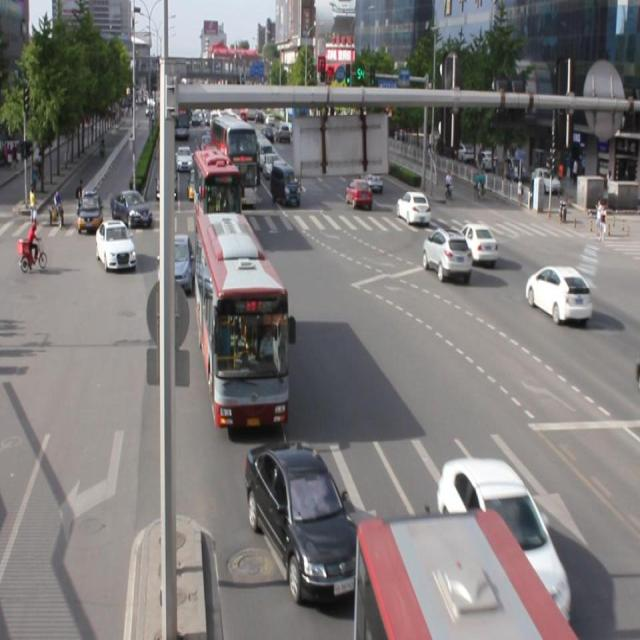car: (436, 458, 569, 624), (244, 439, 369, 598), (522, 263, 590, 325), (420, 226, 471, 282), (96, 219, 136, 272), (160, 232, 194, 292), (456, 220, 497, 262)
van: (353, 515, 579, 640), (193, 210, 289, 425)
